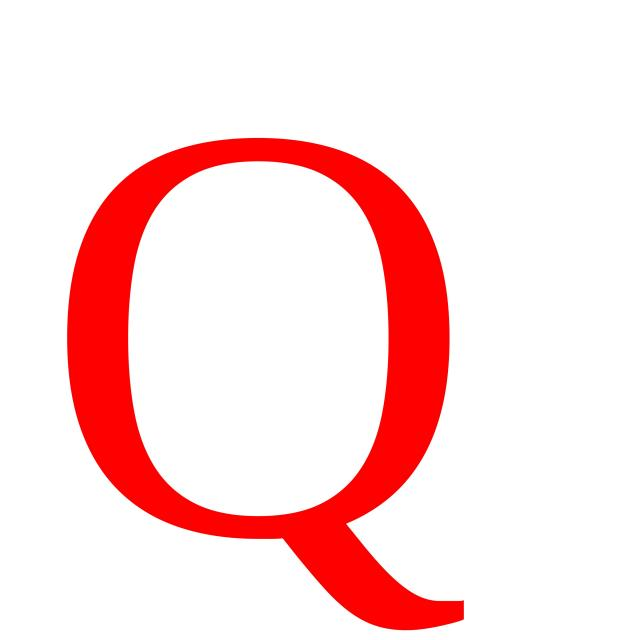Q: (25, 77, 502, 630)
